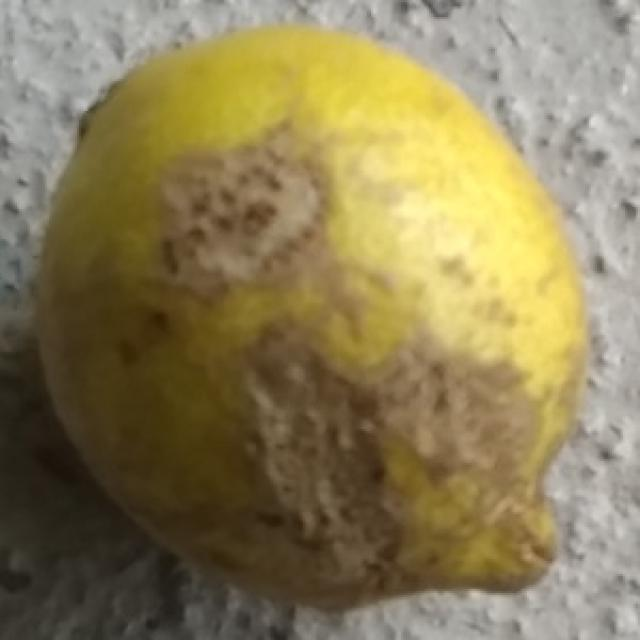overripe: (25, 14, 599, 617)
